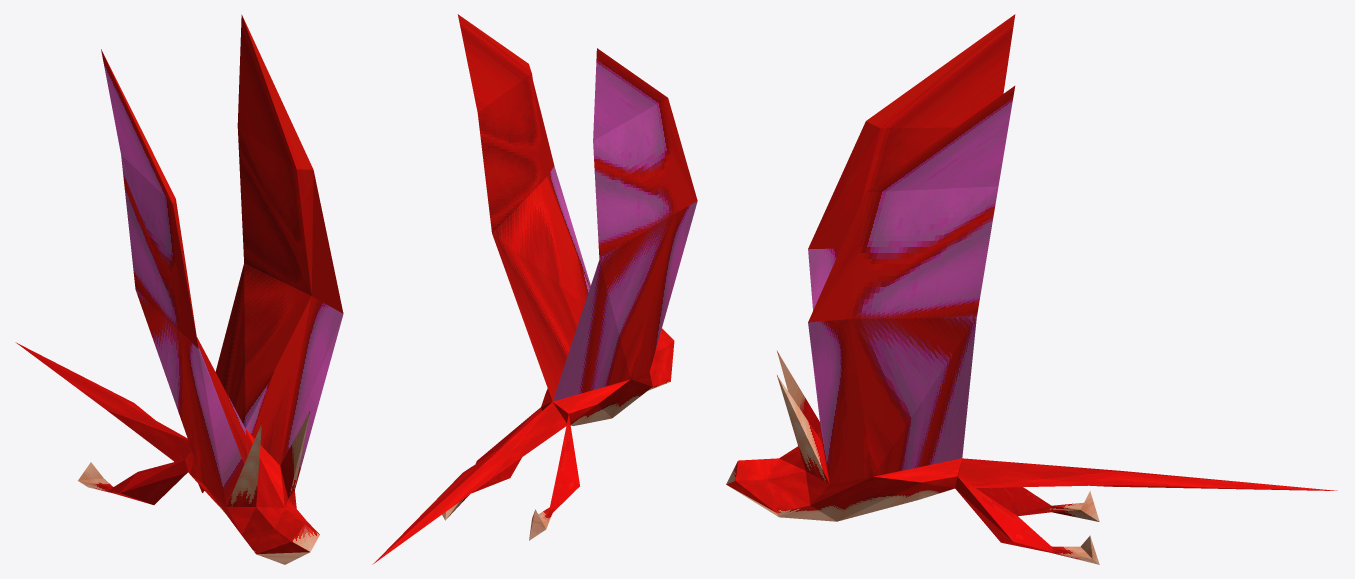
File: swamp-bat-lod1.glb
3 renders of one model, left to right at view 1: azimuth 30°, elevation 25°; view 2: azimuth 150°, elevation 25°; view 3: azimuth 270°, elevation 25°, orthographic. The views are drawn at different scales.
Visible parts, largest first — view 1: swamp-bat-lod1; view 2: swamp-bat-lod1; view 3: swamp-bat-lod1.
Part boxes in pixels (x1,y1,x2,y2): swamp-bat-lod1: (15, 14, 343, 564); swamp-bat-lod1: (372, 14, 697, 564); swamp-bat-lod1: (726, 14, 1337, 564).
Bounding box in the file's own units: 0.7755 × 2.43 × 2.75.
5 materials, 5 textured.
